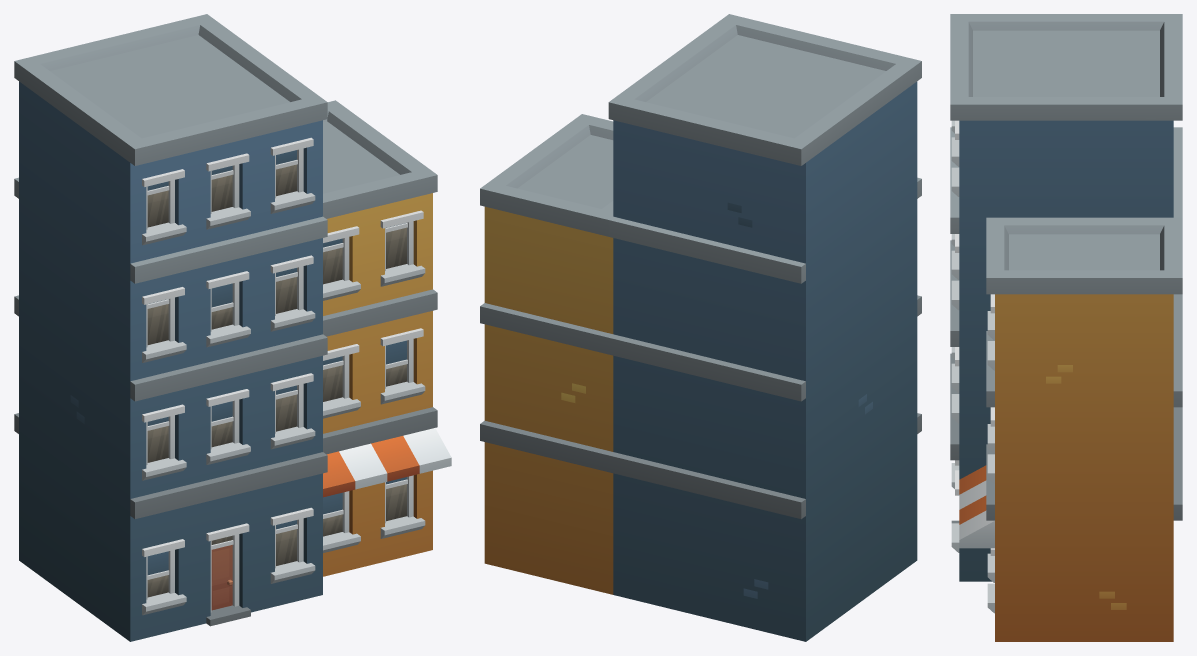
The model's file is building_H_withoutBase.obj.
3 renders of one model, left to right at view 1: azimuth 30°, elevation 25°; view 2: azimuth 150°, elevation 25°; view 3: azimuth 270°, elevation 25°, orthographic. The views are drawn at different scales.
Size of the model in its own units: 2.01 by 2.95 by 1.3.
Materials: 1 (1 with a texture image).
